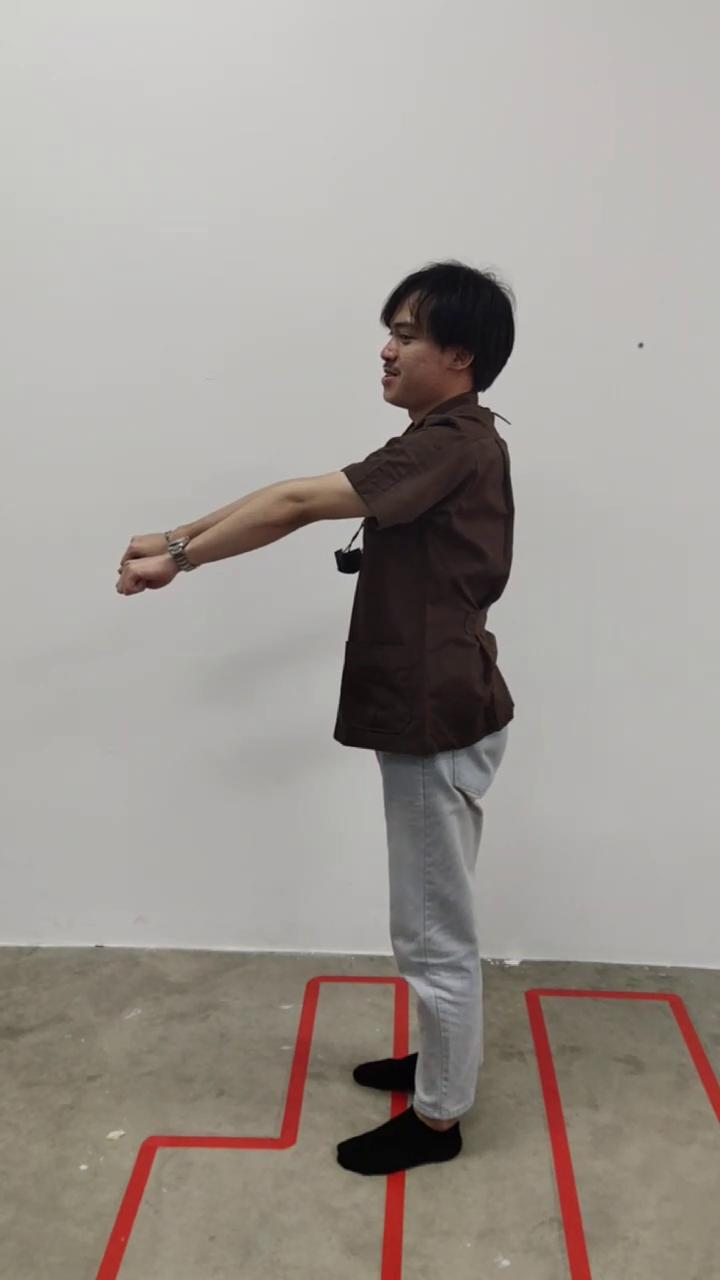squat up: (118, 262, 515, 1175)
